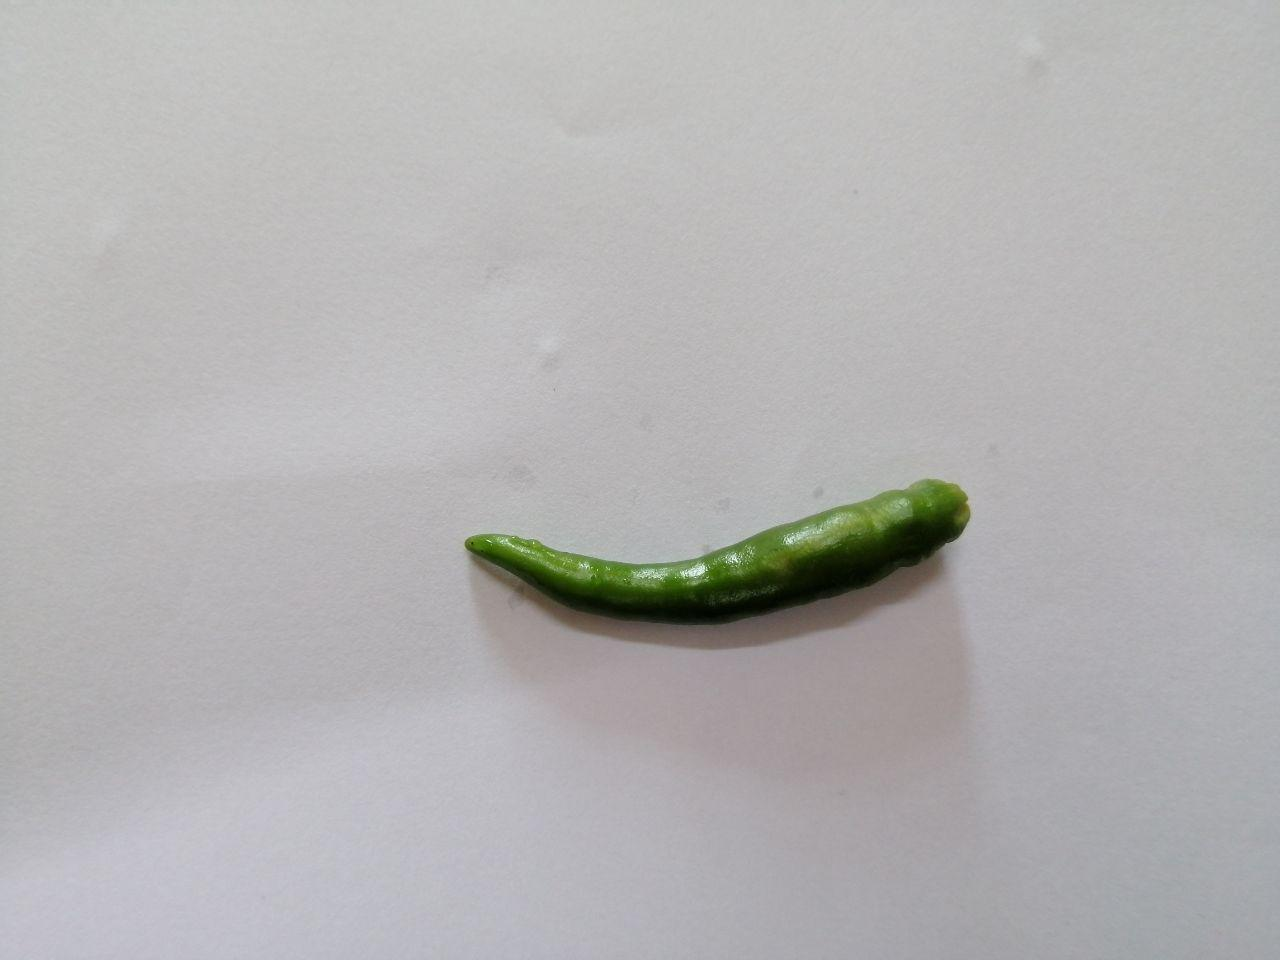lada hijau: (443, 455, 1010, 652)
